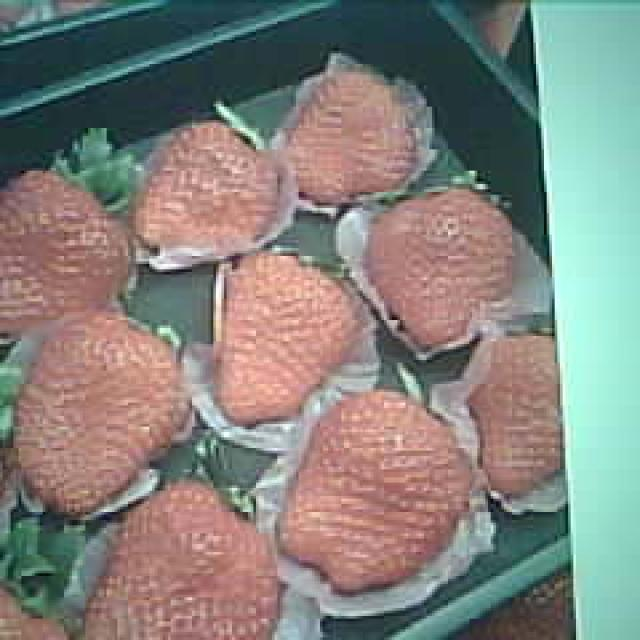strawberry: (278, 394, 466, 588), (18, 316, 188, 507), (89, 489, 281, 640), (214, 255, 358, 417), (368, 190, 514, 344), (2, 173, 128, 329), (280, 70, 422, 202), (134, 120, 274, 253), (469, 340, 564, 494)
